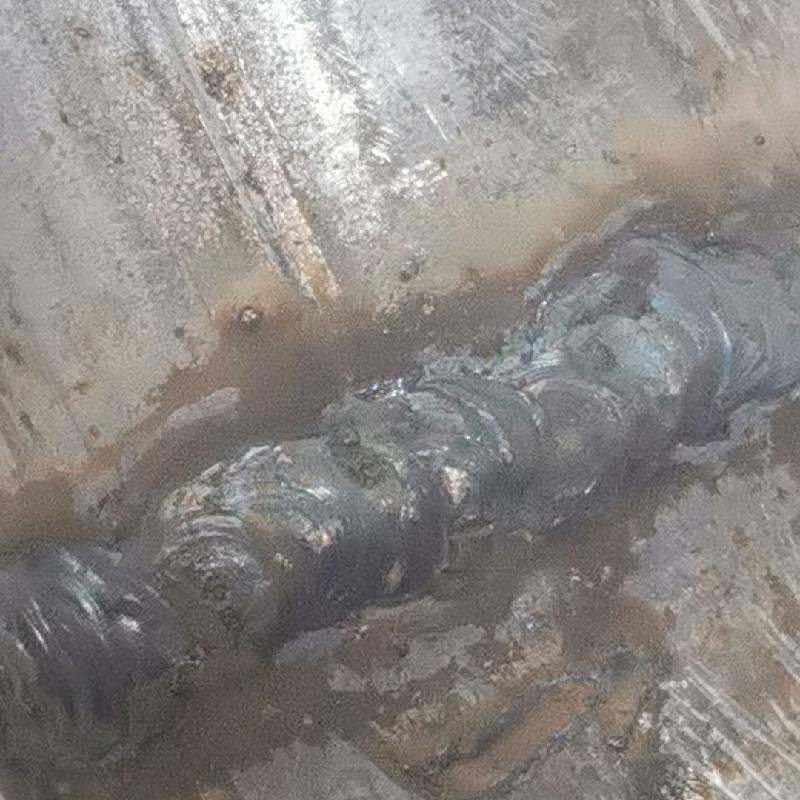good: (3, 278, 799, 759)
